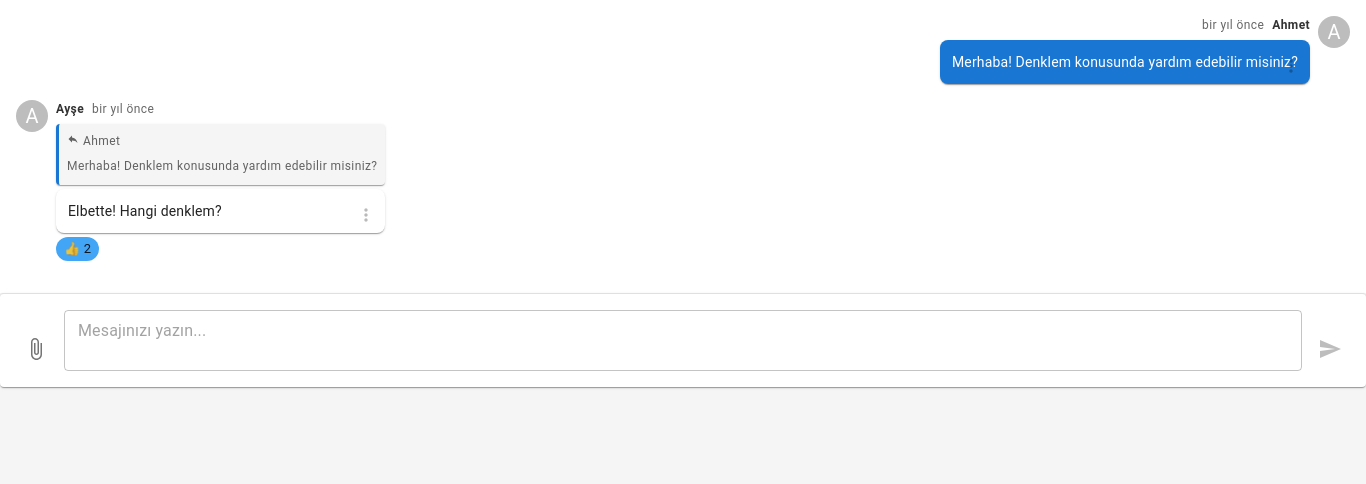
Test: ChatInterface Component › Message Replies › shows reply preview when replying to a message
This screenshot has width=1366, height=484.
Check: the text "Elbette! Hangi denklem?" is shown, box [68, 203, 222, 219]
# Open context menu and click reply
Click the 1st button named "more" at (1291, 66), box [1276, 44, 1306, 88]
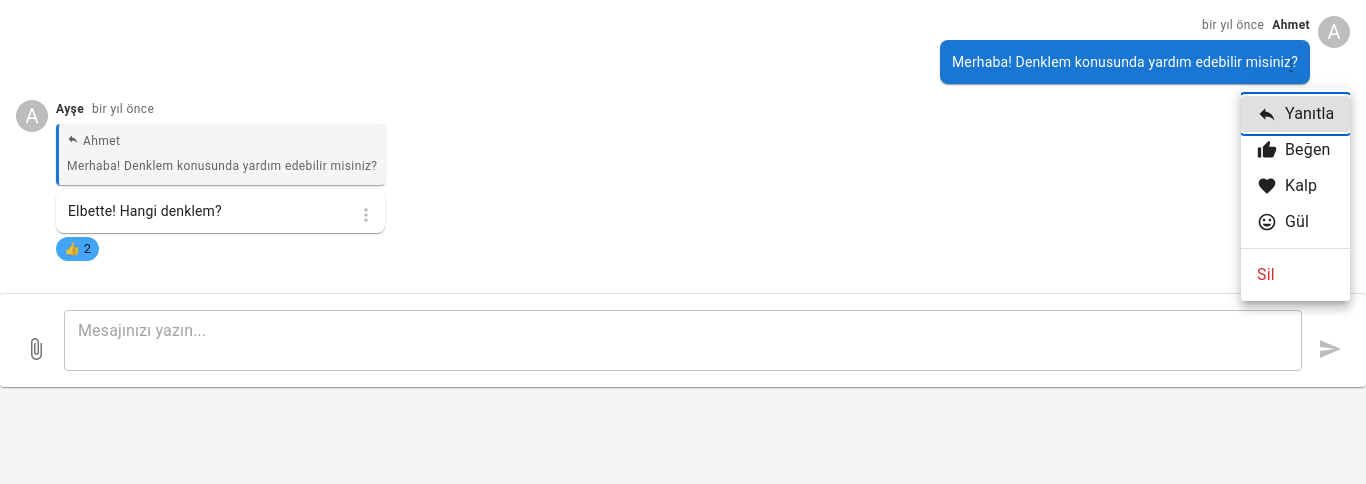
Click the menu item "Yanıtla" at (1296, 114), box [1241, 96, 1350, 132]
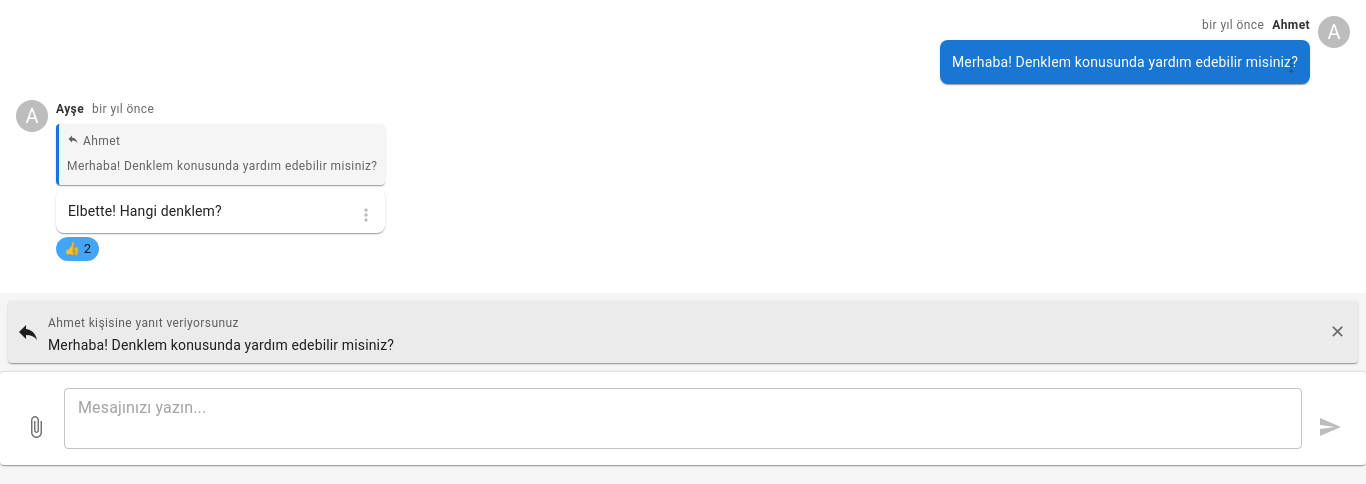
Check: the text "Ahmet kişisine yanıt veriyorsunuz" is shown, box [48, 316, 239, 330]
